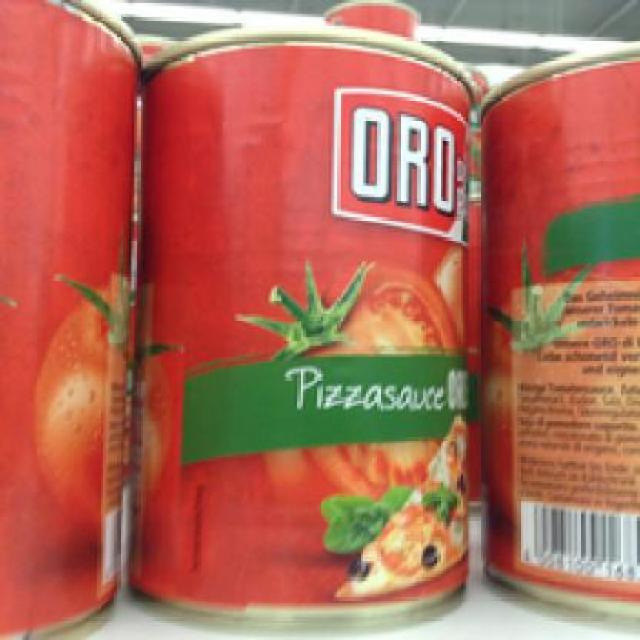Tomato Sauce: (123, 17, 480, 634), (474, 34, 637, 612)
